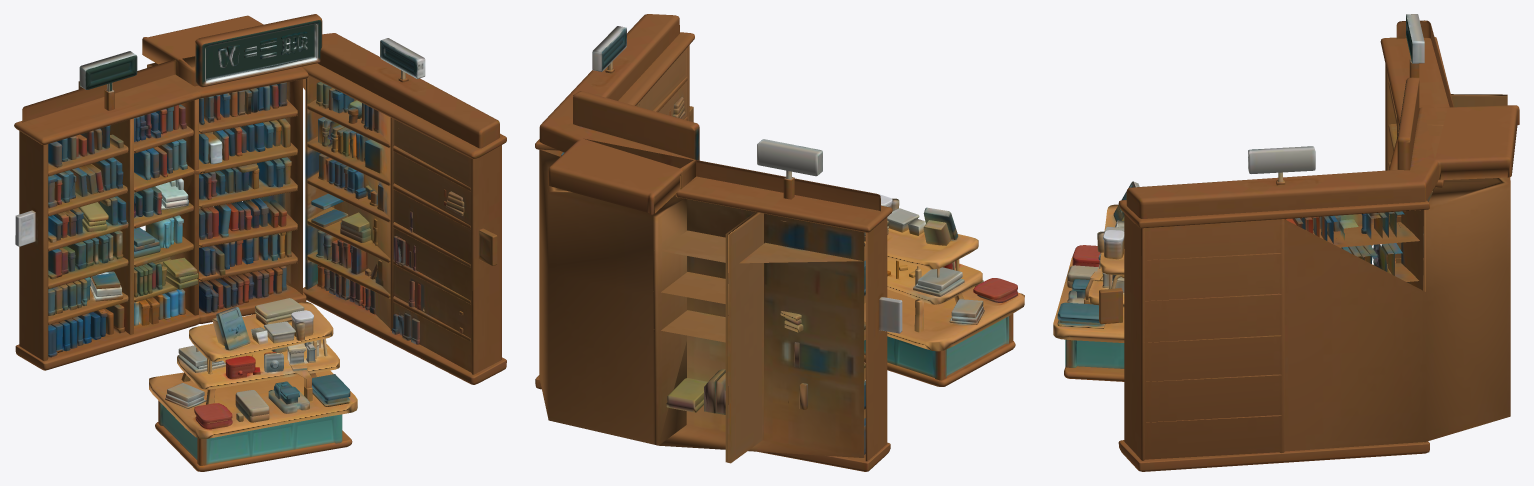
The model's file is toonstudio_bookstore.glb.
3 renders of one model, left to right at view 1: azimuth 30°, elevation 25°; view 2: azimuth 150°, elevation 25°; view 3: azimuth 270°, elevation 25°, orthographic. The views are drawn at different scales.
Parts seen in each view (by area): view 1: tripo_68d3c079_c8d6_403c_b5c1_7c3a3eb7bc15; view 2: tripo_68d3c079_c8d6_403c_b5c1_7c3a3eb7bc15; view 3: tripo_68d3c079_c8d6_403c_b5c1_7c3a3eb7bc15.
Boxes of the visible parts, x1=… form: tripo_68d3c079_c8d6_403c_b5c1_7c3a3eb7bc15: x1=14, y1=14, x2=506, y2=471; tripo_68d3c079_c8d6_403c_b5c1_7c3a3eb7bc15: x1=535, y1=14, x2=1024, y2=471; tripo_68d3c079_c8d6_403c_b5c1_7c3a3eb7bc15: x1=1053, y1=14, x2=1519, y2=471.
Size of the model in its own units: 2.96 by 2.2 by 3.
Materials: 1 (1 with a texture image).
